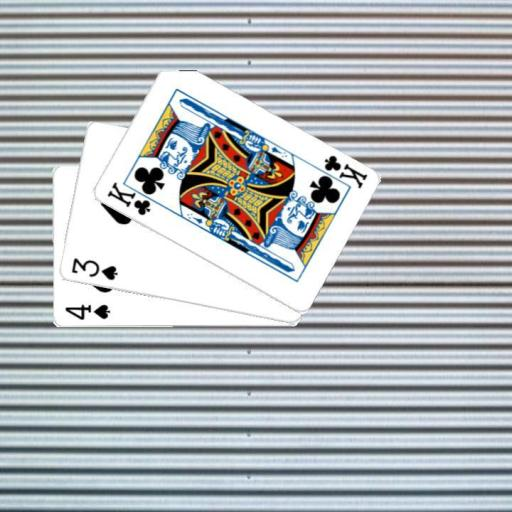3S: (68, 256, 119, 283)
4S: (61, 302, 111, 322)
KC: (310, 152, 368, 192), (103, 178, 161, 217)
